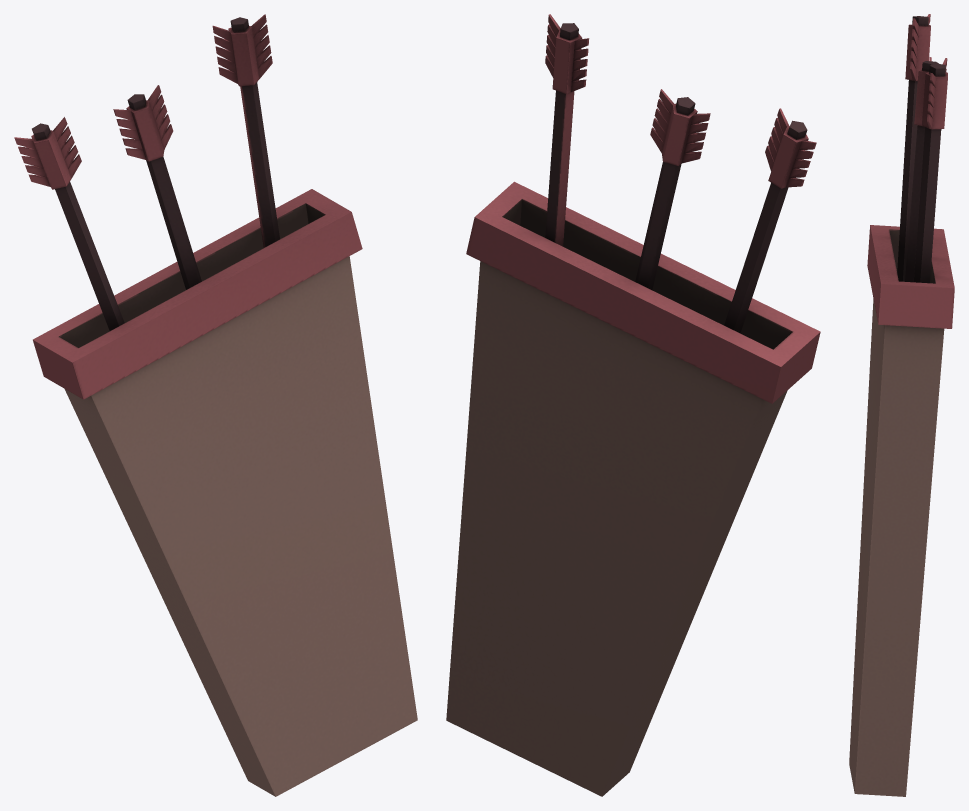
The model's file is quiver.glb.
3 renders of one model, left to right at view 1: azimuth 30°, elevation 25°; view 2: azimuth 150°, elevation 25°; view 3: azimuth 270°, elevation 25°, orthographic. The views are drawn at different scales.
Visible parts, largest first — view 1: Arrow Box, Arrow.002, Arrow, Arrow.001; view 2: Arrow Box, Arrow, Arrow.001, Arrow.002; view 3: Arrow Box, Arrow.002, Arrow, Arrow.001.
Part boxes in pixels (<box>): Arrow Box: <box>33,189,417,796</box>; Arrow.002: <box>212,14,279,247</box>; Arrow: <box>14,117,124,330</box>; Arrow.001: <box>113,85,201,289</box>; Arrow Box: <box>446,181,820,796</box>; Arrow: <box>724,108,816,333</box>; Arrow.001: <box>635,89,710,289</box>; Arrow.002: <box>545,14,589,246</box>; Arrow Box: <box>849,225,954,796</box>; Arrow.002: <box>914,58,947,283</box>; Arrow: <box>897,14,930,281</box>; Arrow.001: <box>905,57,938,282</box>.
Bounding box in the file's own units: 0.3644 × 0.7133 × 0.0962.
Materials: 1 (1 with a texture image).
